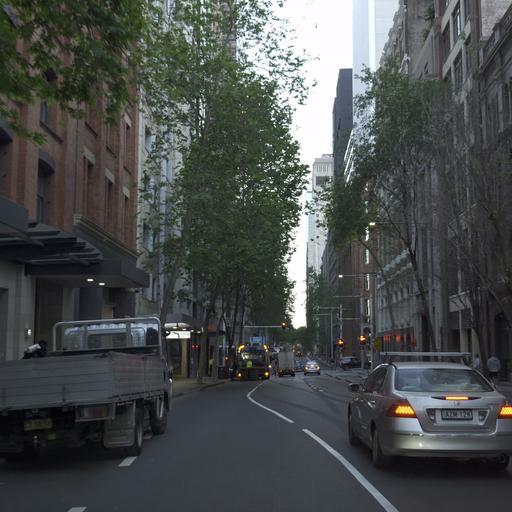Street light: (366, 218, 435, 352), (337, 271, 376, 368), (312, 311, 332, 361), (280, 321, 286, 330)
